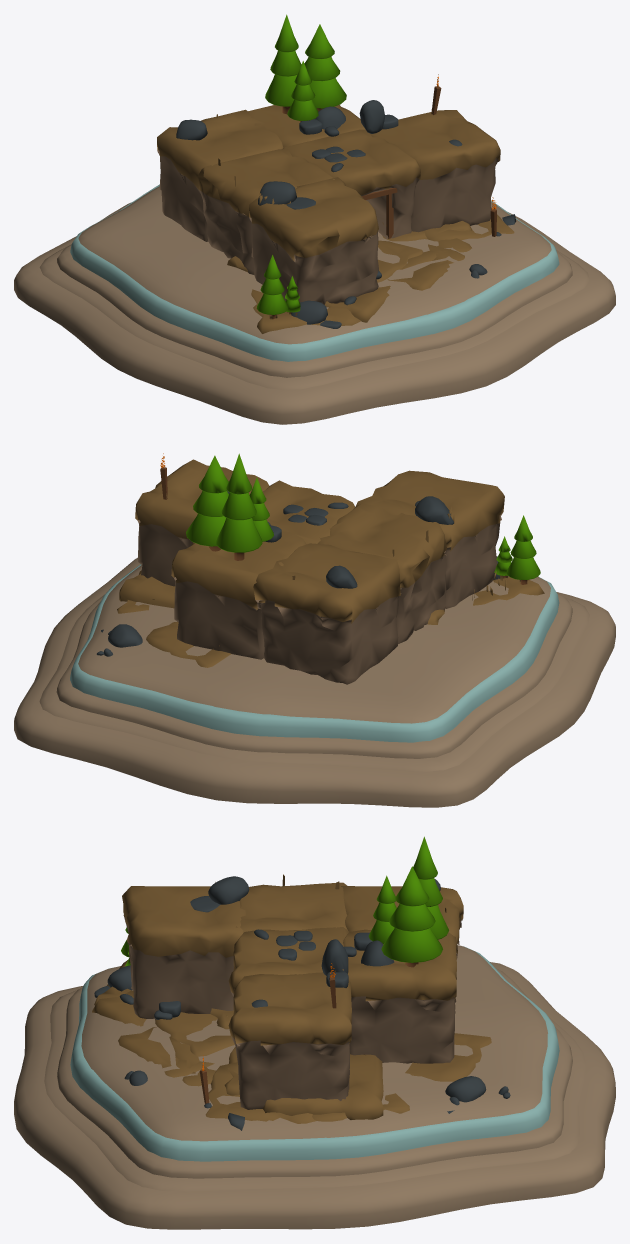
The model's file is IslaFinal.fbx.
3 views of the same model, one above another, from view 1: azimuth 30°, elevation 25°; view 2: azimuth 150°, elevation 25°; view 3: azimuth 270°, elevation 25° (orthographic). The views are drawn at different scales.
Visible parts, largest first — view 1: stone.021; view 2: stone.021; view 3: stone.021.
Boxes of the visible parts, x1=… form: stone.021: x1=14, y1=14, x2=615, y2=424; stone.021: x1=14, y1=453, x2=615, y2=807; stone.021: x1=14, y1=836, x2=615, y2=1229.
Size of the model in its own units: 1131 by 652 by 1146.
